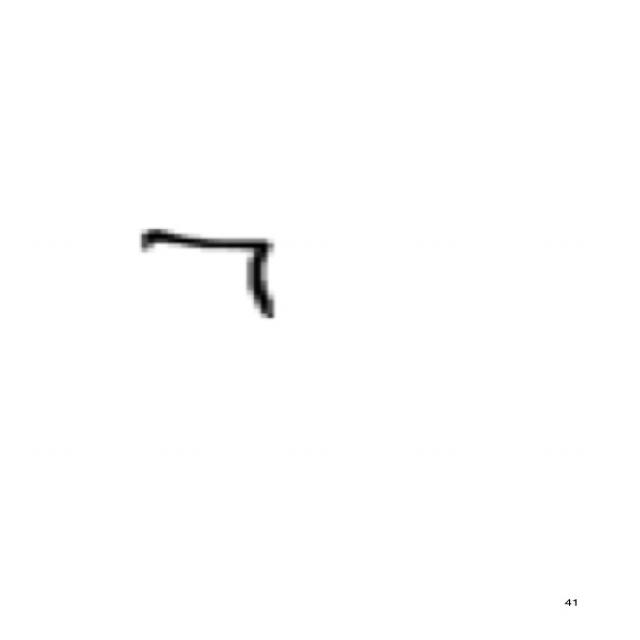6 -six-: (132, 215, 285, 326)
